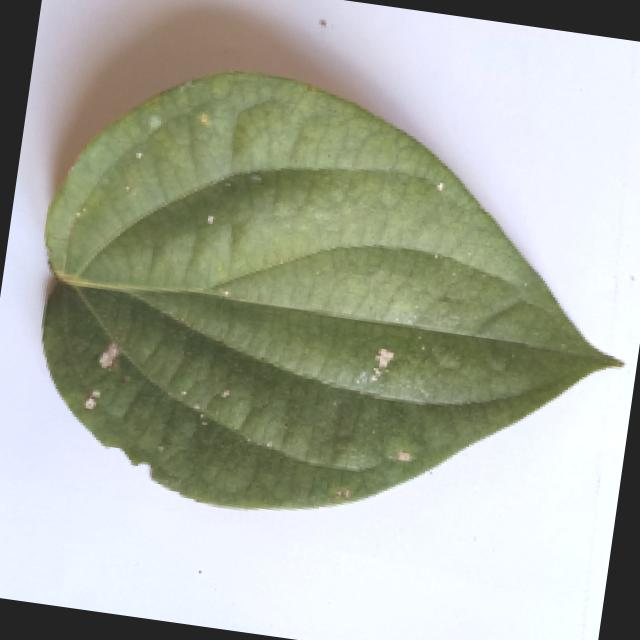pollu-disease: (13, 43, 640, 558)
